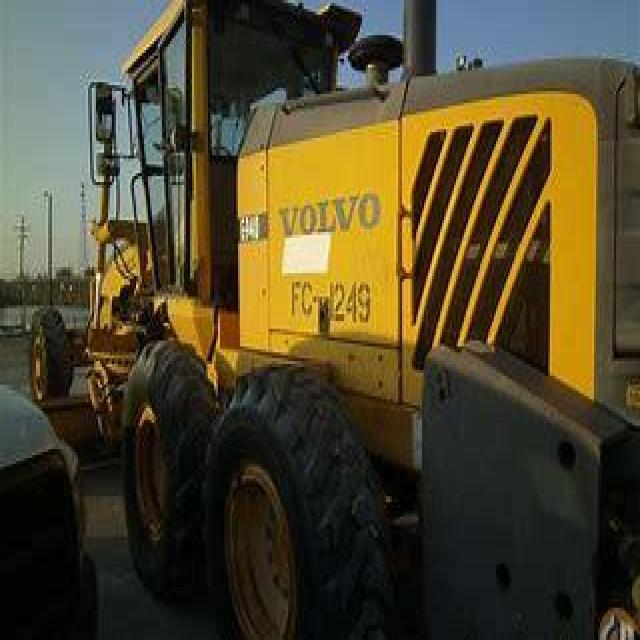Grader: (12, 12, 638, 628)
